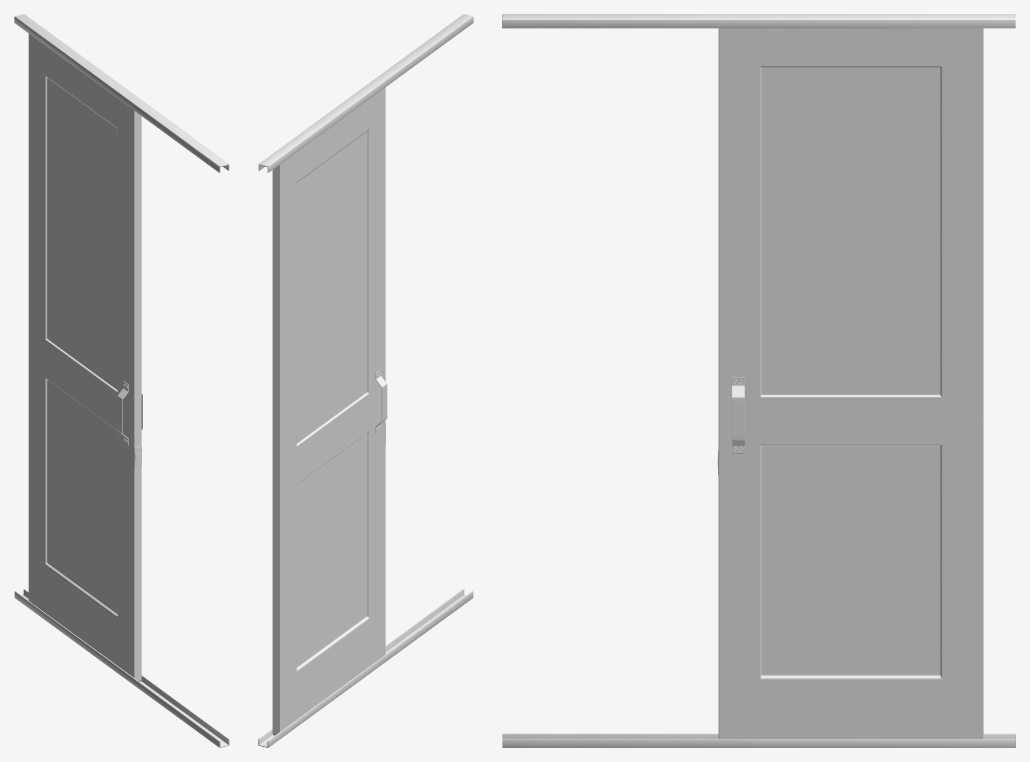
Rendered from PuertaCorrediza1.glb.
3 views of the same model, side by side, from view 1: azimuth 30°, elevation 25°; view 2: azimuth 150°, elevation 25°; view 3: azimuth 270°, elevation 25° (orthographic). The views are drawn at different scales.
Parts seen in each view (by area): view 1: PuertaCorrediza1; view 2: PuertaCorrediza1; view 3: PuertaCorrediza1.
Part boxes in pixels (<box>): PuertaCorrediza1: <box>14,14,229,747</box>; PuertaCorrediza1: <box>258,14,473,747</box>; PuertaCorrediza1: <box>502,14,1015,747</box>.
Bounding box in the file's own units: 7.15 × 191 × 122.
1 material, 1 textured.
